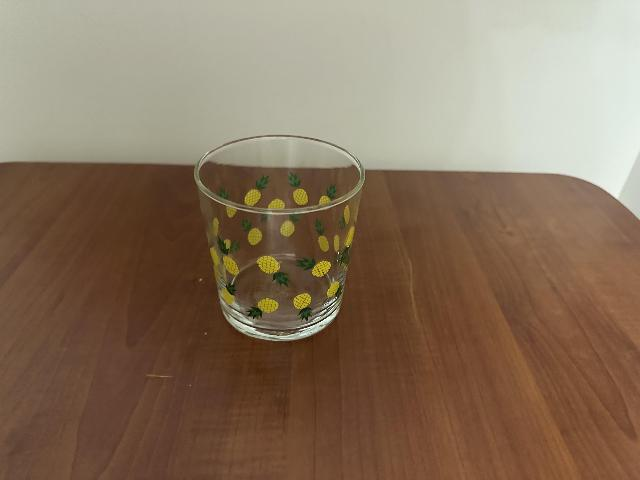Cam: (187, 130, 368, 338)
